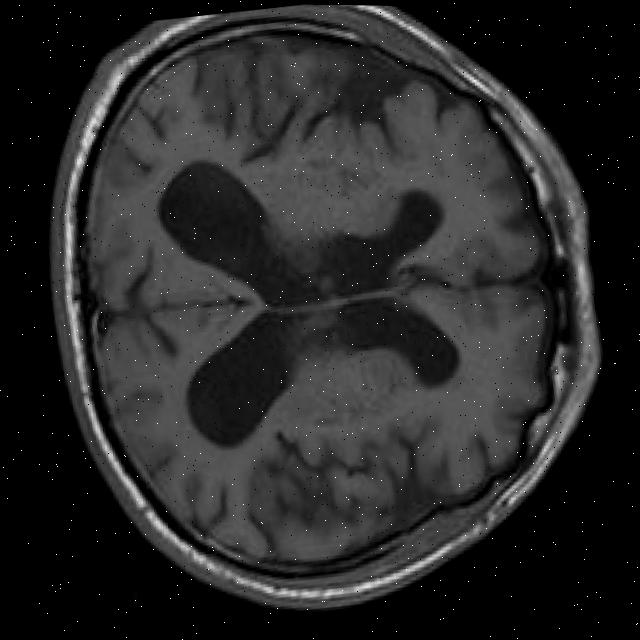NoTumor: (18, 0, 633, 640)
